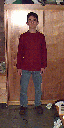person: (14, 12, 51, 110)
